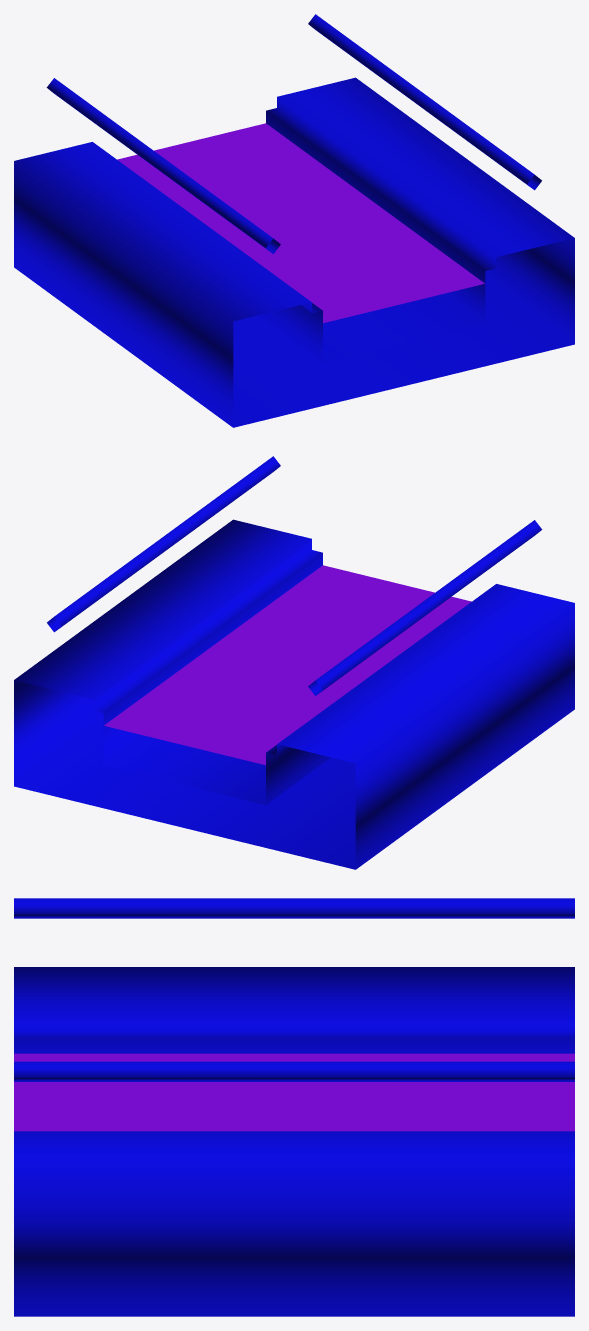
File: StraightPiece.fbx
3 views of the same model, one above another, from view 1: azimuth 30°, elevation 25°; view 2: azimuth 150°, elevation 25°; view 3: azimuth 270°, elevation 25° (orthographic). The views are drawn at different scales.
Visible parts, largest first — view 1: StraightPiece_geo; view 2: StraightPiece_geo; view 3: StraightPiece_geo.
Part boxes in pixels (x1,y1,x2,y2): StraightPiece_geo: (14, 14, 574, 427); StraightPiece_geo: (14, 456, 574, 869); StraightPiece_geo: (14, 898, 574, 1316).
Size of the model in its own units: 171 by 85.93 by 190.
